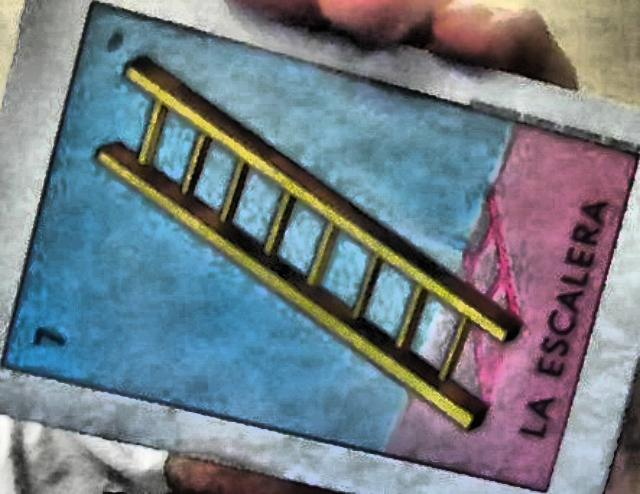La Escalera: (1, 0, 639, 492)
